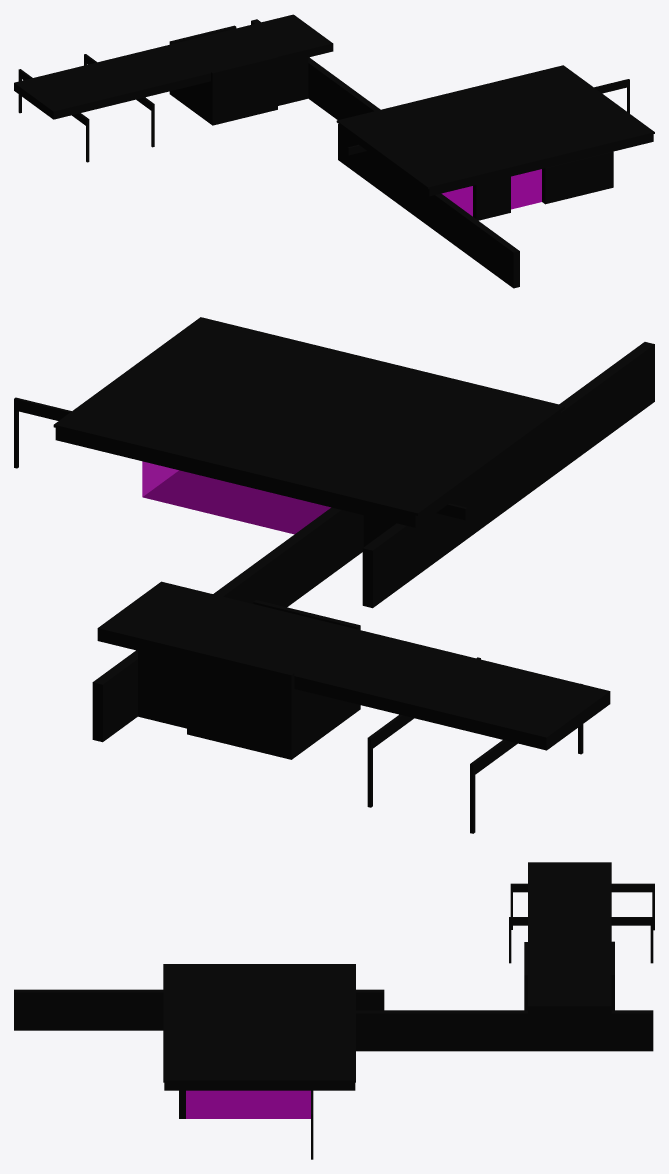
3 views of the same model, one above another, from view 1: azimuth 30°, elevation 25°; view 2: azimuth 150°, elevation 25°; view 3: azimuth 270°, elevation 25° (orthographic). The views are drawn at different scales.
Visible parts, largest first — view 1: SketchUp (×4); view 2: SketchUp (×3); view 3: SketchUp (×3).
Part boxes in pixels (x1,y1,x2,y2): SketchUp (×4): (14, 14, 654, 288); SketchUp (×3): (14, 317, 654, 833); SketchUp (×3): (14, 862, 654, 1159).
Bounding box in the file's own units: 1189 × 1324 × 127.
